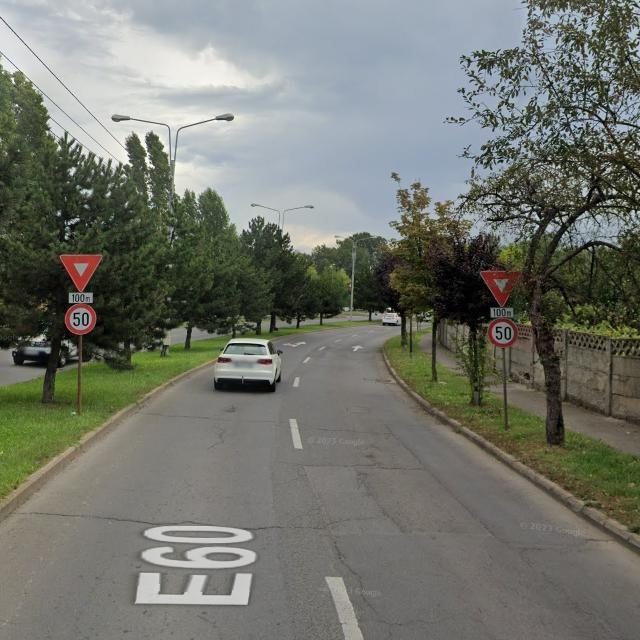forb_speed_over_50: (65, 302, 96, 333), (489, 318, 517, 347)
prio_give_way: (60, 254, 104, 292), (480, 271, 523, 308)
